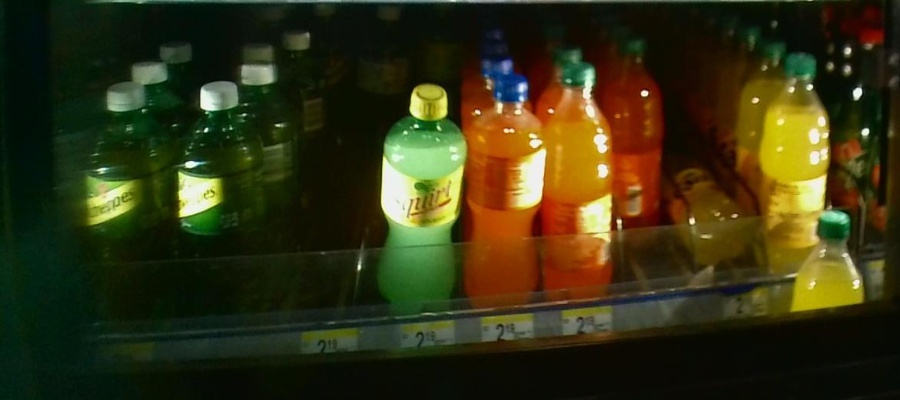bottle: (370, 78, 465, 324), (171, 75, 263, 311), (82, 78, 166, 316), (464, 74, 547, 313), (551, 54, 612, 313), (761, 54, 828, 277), (613, 35, 664, 267), (673, 158, 743, 279)
